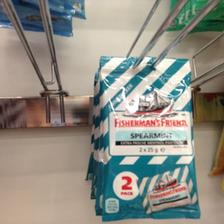Suessigkeit: (100, 56, 196, 220)
